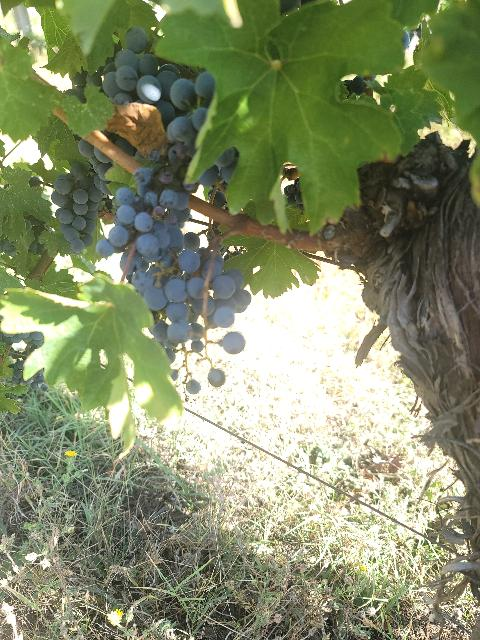grapes: (130, 251, 251, 361), (96, 142, 189, 275), (51, 164, 105, 255)
